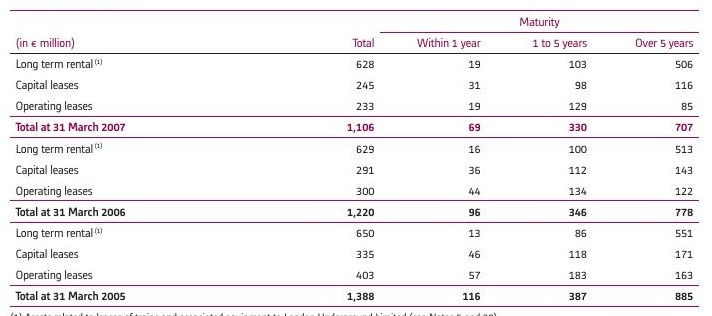table: (0, 0, 712, 316)
